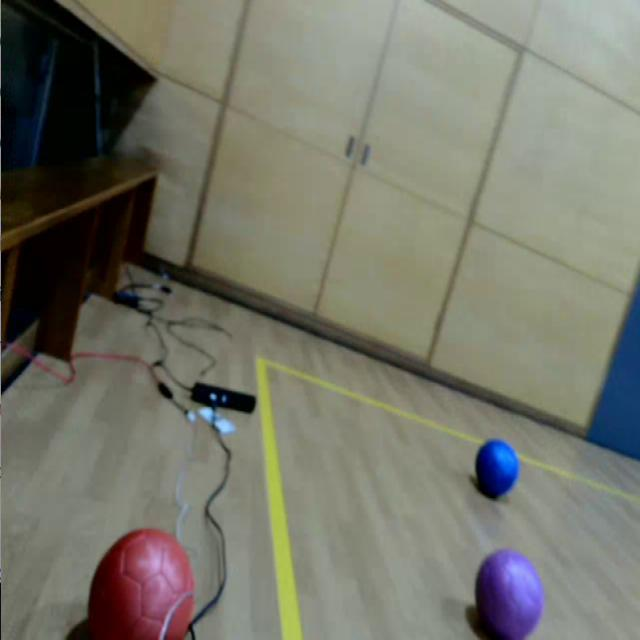blue_ball: (474, 439, 519, 497)
purple_ball: (473, 551, 544, 640)
red_ball: (87, 527, 195, 640)
